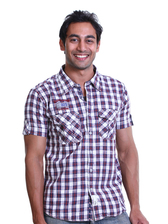clothoes: (16, 63, 137, 218)
